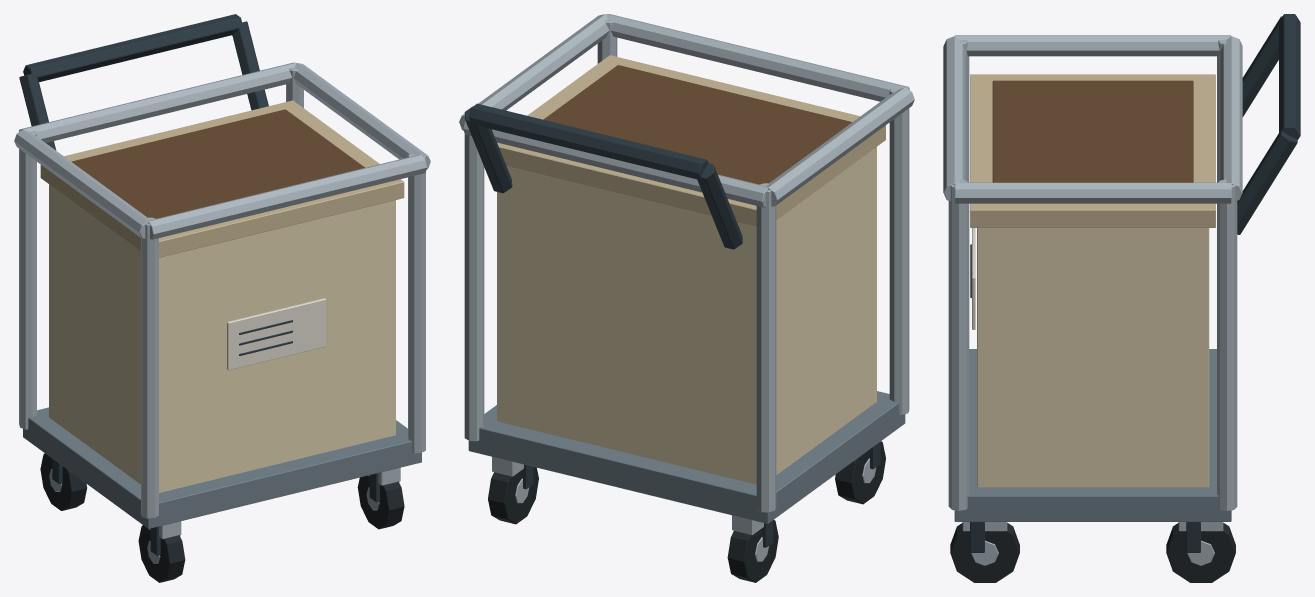
File: b14_postal_rolling_canvas_hamper.glb
3 renders of one model, left to right at view 1: azimuth 30°, elevation 25°; view 2: azimuth 150°, elevation 25°; view 3: azimuth 270°, elevation 25°, orthographic. The views are drawn at different scales.
Parts seen in each view (by area): view 1: b14_postal_rolling_canvas_hamper; view 2: b14_postal_rolling_canvas_hamper; view 3: b14_postal_rolling_canvas_hamper.
Boxes of the visible parts, bbox=[...] form: b14_postal_rolling_canvas_hamper: bbox=[14, 14, 430, 582]; b14_postal_rolling_canvas_hamper: bbox=[459, 14, 914, 582]; b14_postal_rolling_canvas_hamper: bbox=[943, 14, 1300, 582].
Size of the model in its own units: 0.83 by 1.11 by 0.7993.
